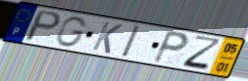G: (54, 16, 89, 49)
I: (120, 24, 142, 59)
K: (90, 20, 124, 56)
P: (150, 29, 191, 66), (22, 9, 64, 43)
Z: (180, 34, 224, 73)
